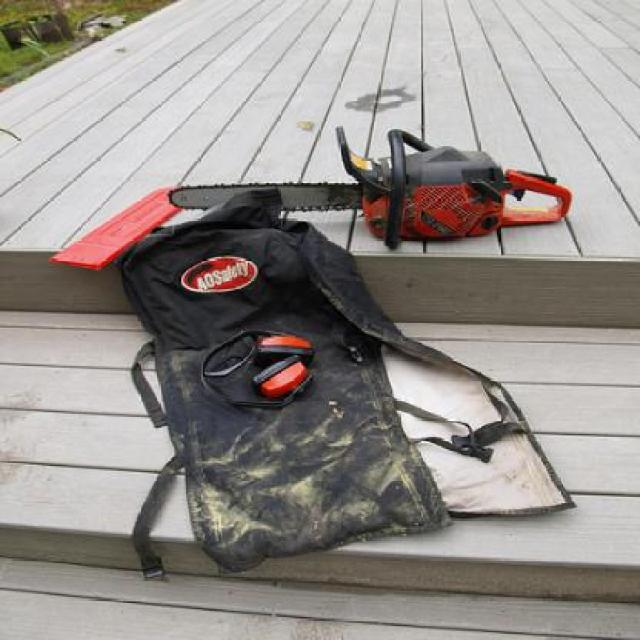Chainsaw: (165, 126, 577, 251)
